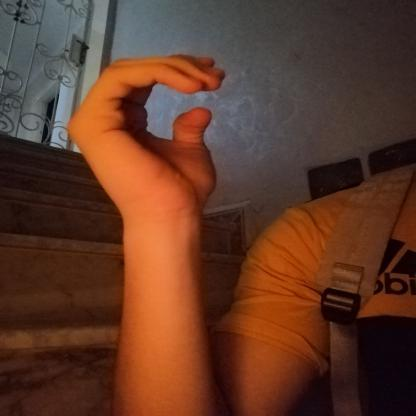JEEM: (50, 38, 247, 232)
